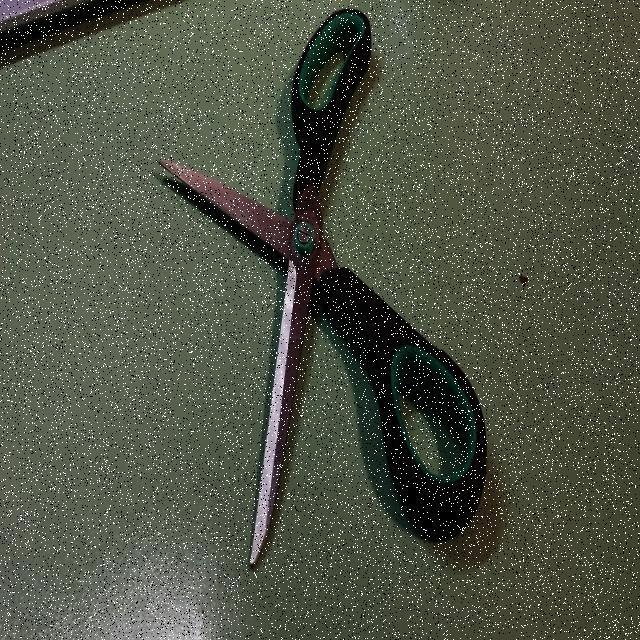scissors: (152, 2, 492, 578)
